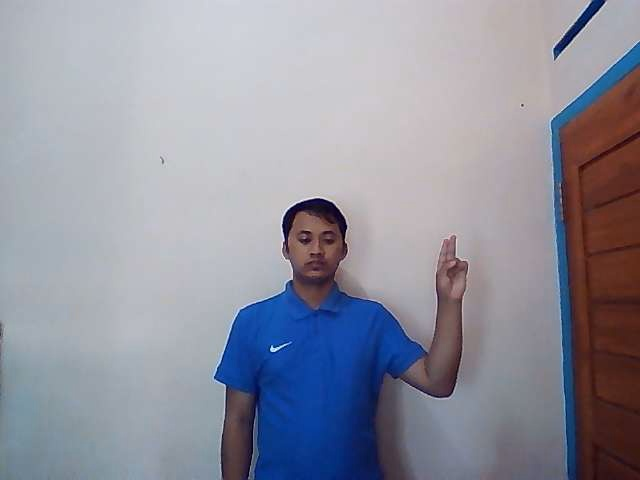U: (434, 233, 468, 300)
